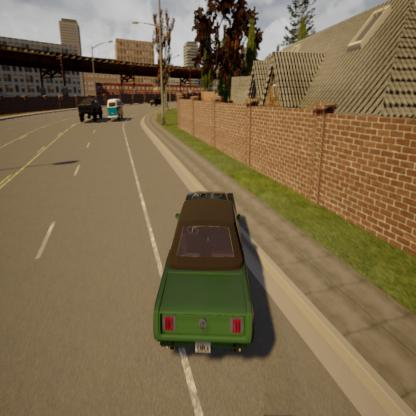Cars: (154, 193, 254, 358), (78, 97, 103, 121), (106, 96, 122, 121), (150, 94, 161, 111)
